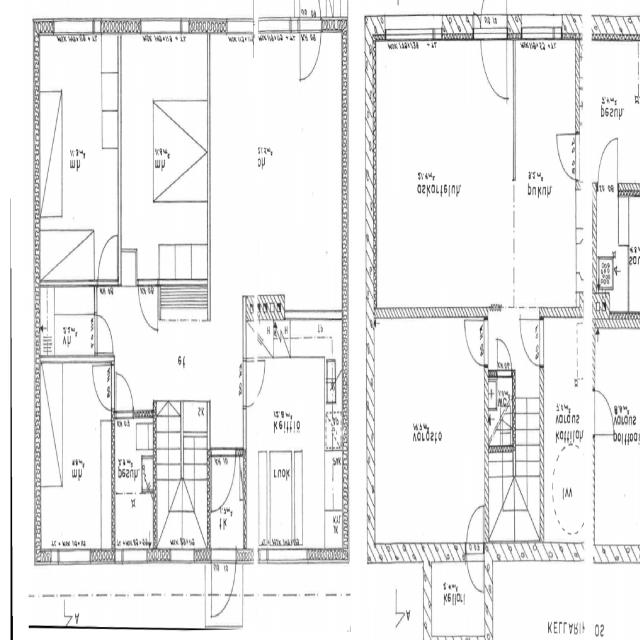door: (481, 15, 507, 100), (212, 548, 236, 620), (212, 448, 235, 511), (300, 16, 321, 81), (598, 136, 618, 192), (520, 320, 544, 366), (465, 320, 489, 366), (466, 542, 484, 603), (556, 134, 580, 179), (466, 503, 484, 562), (138, 279, 158, 332), (243, 361, 266, 406), (481, 0, 507, 39), (592, 390, 614, 435), (92, 365, 114, 409), (99, 236, 117, 286), (116, 370, 133, 418), (95, 315, 114, 353), (300, 0, 321, 32), (497, 336, 512, 377), (474, 0, 481, 39)
